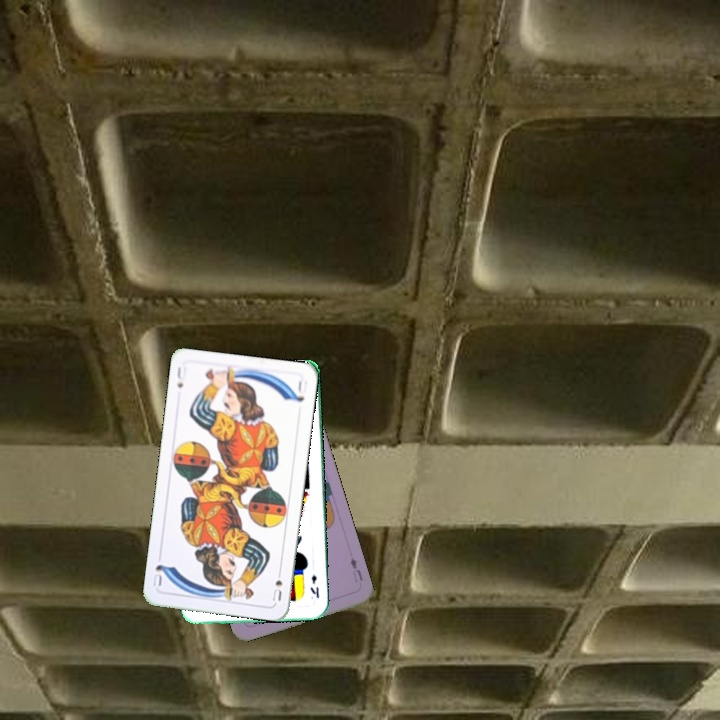EK: (306, 570, 322, 600)
EU: (346, 554, 365, 585)
SU: (268, 564, 285, 604), (173, 362, 189, 391)
